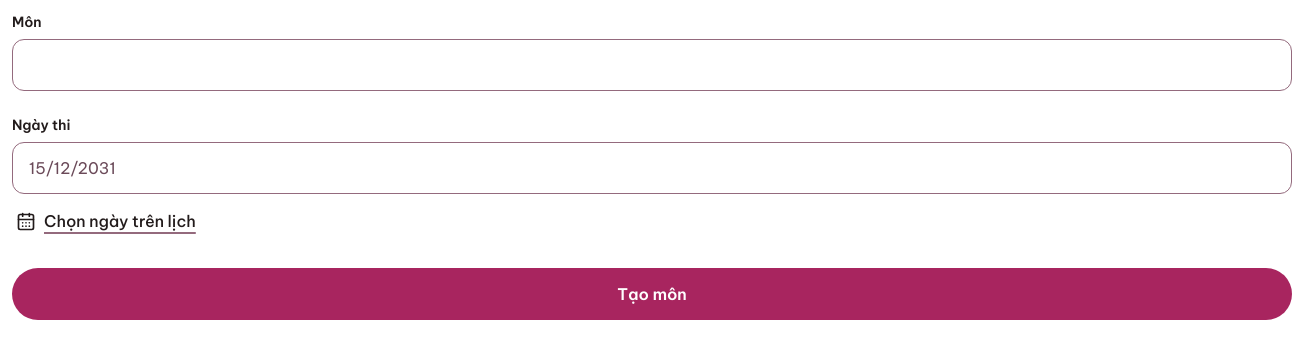
NewSubjectForm (US-01 AC1, AC2, AC7) › plan K10: 31/02/2027 is refused before sending
Type "Mạng" into the field labelled "Môn" at (652, 65), box [12,39,1292,91]
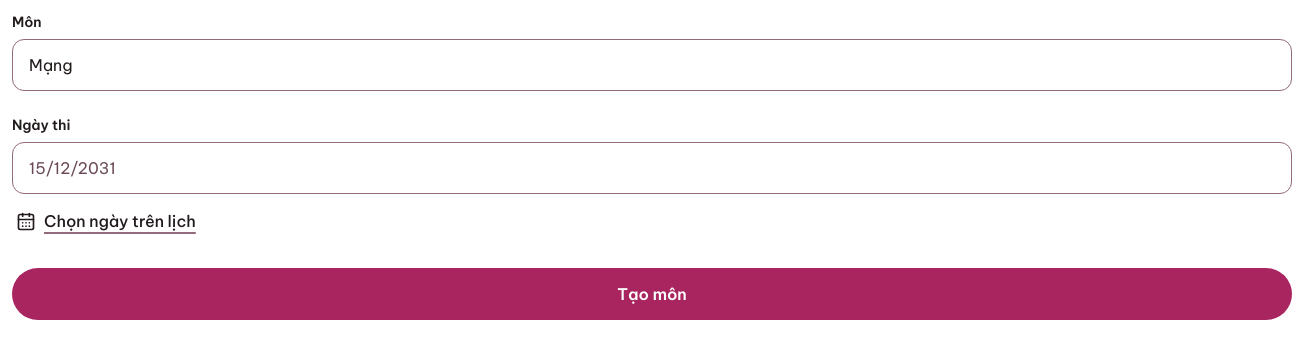
Type "31/02/2027" into the field labelled "Ngày thi" at (652, 168), box [12,142,1292,194]
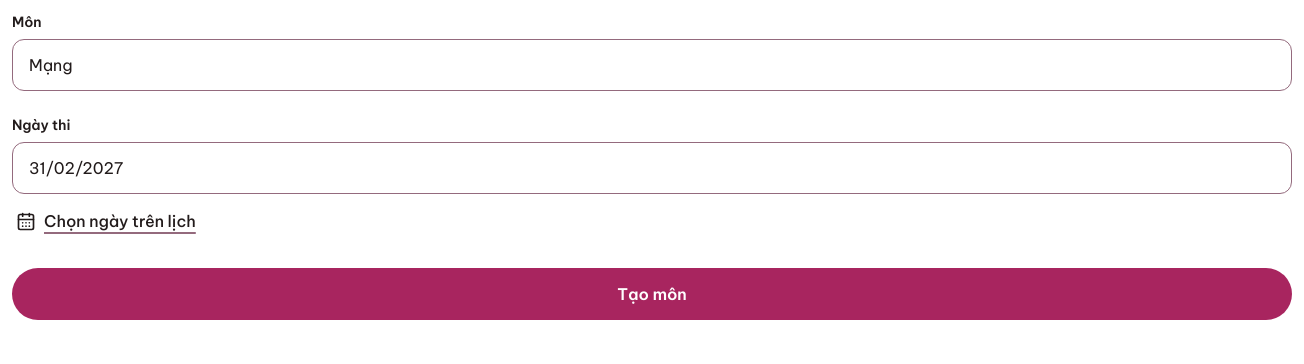
Click the button "Tạo môn" at (652, 294), box [12,268,1292,320]
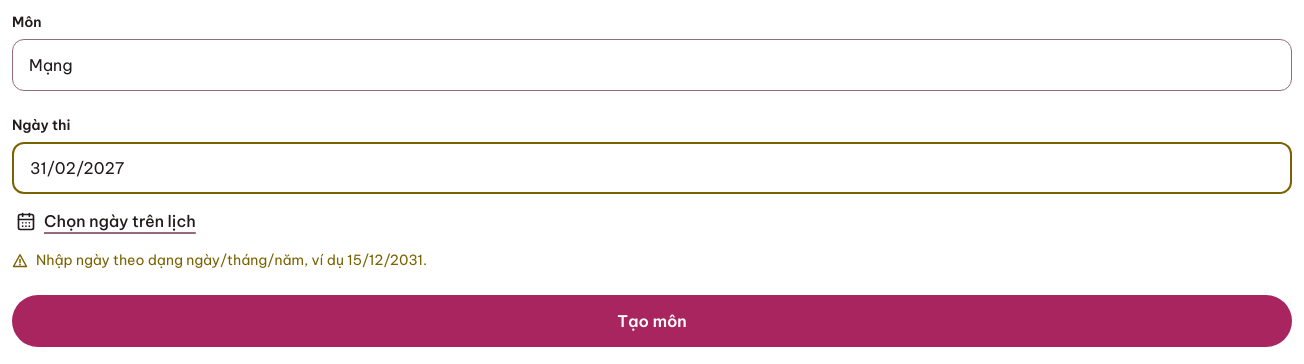
Check: the text "Nhập ngày theo dạng ngày/tháng/năm, ví dụ 15/12/2031." is shown, box [36,250,427,271]
